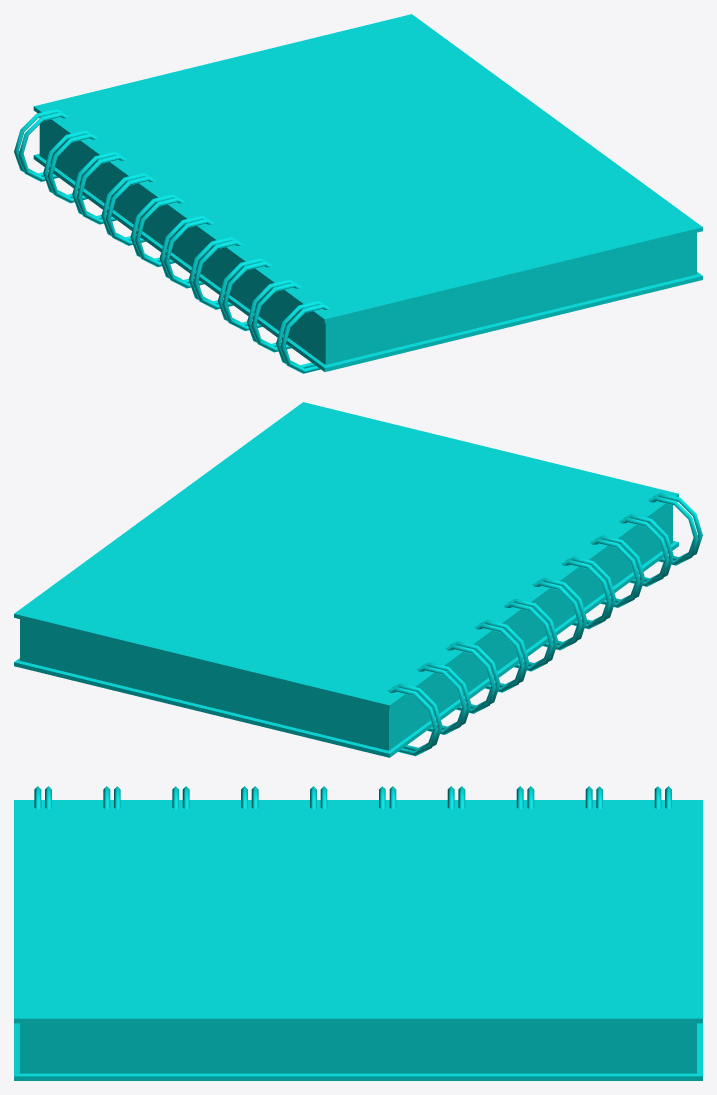
File: classroomBook2.fbx
The picture shows the model from 3 angles, top to bottom: view 1: azimuth 30°, elevation 25°; view 2: azimuth 150°, elevation 25°; view 3: azimuth 270°, elevation 25°; orthographic projection. The views are drawn at different scales.
Parts seen in each view (by area): view 1: classroomBook2; view 2: classroomBook2; view 3: classroomBook2.
Part boxes in pixels (x1,y1,x2,y2): classroomBook2: (14, 14, 702, 373); classroomBook2: (14, 402, 702, 757); classroomBook2: (14, 786, 702, 1080).
Bounding box in the file's own units: 16.36 × 2.47 × 20.
